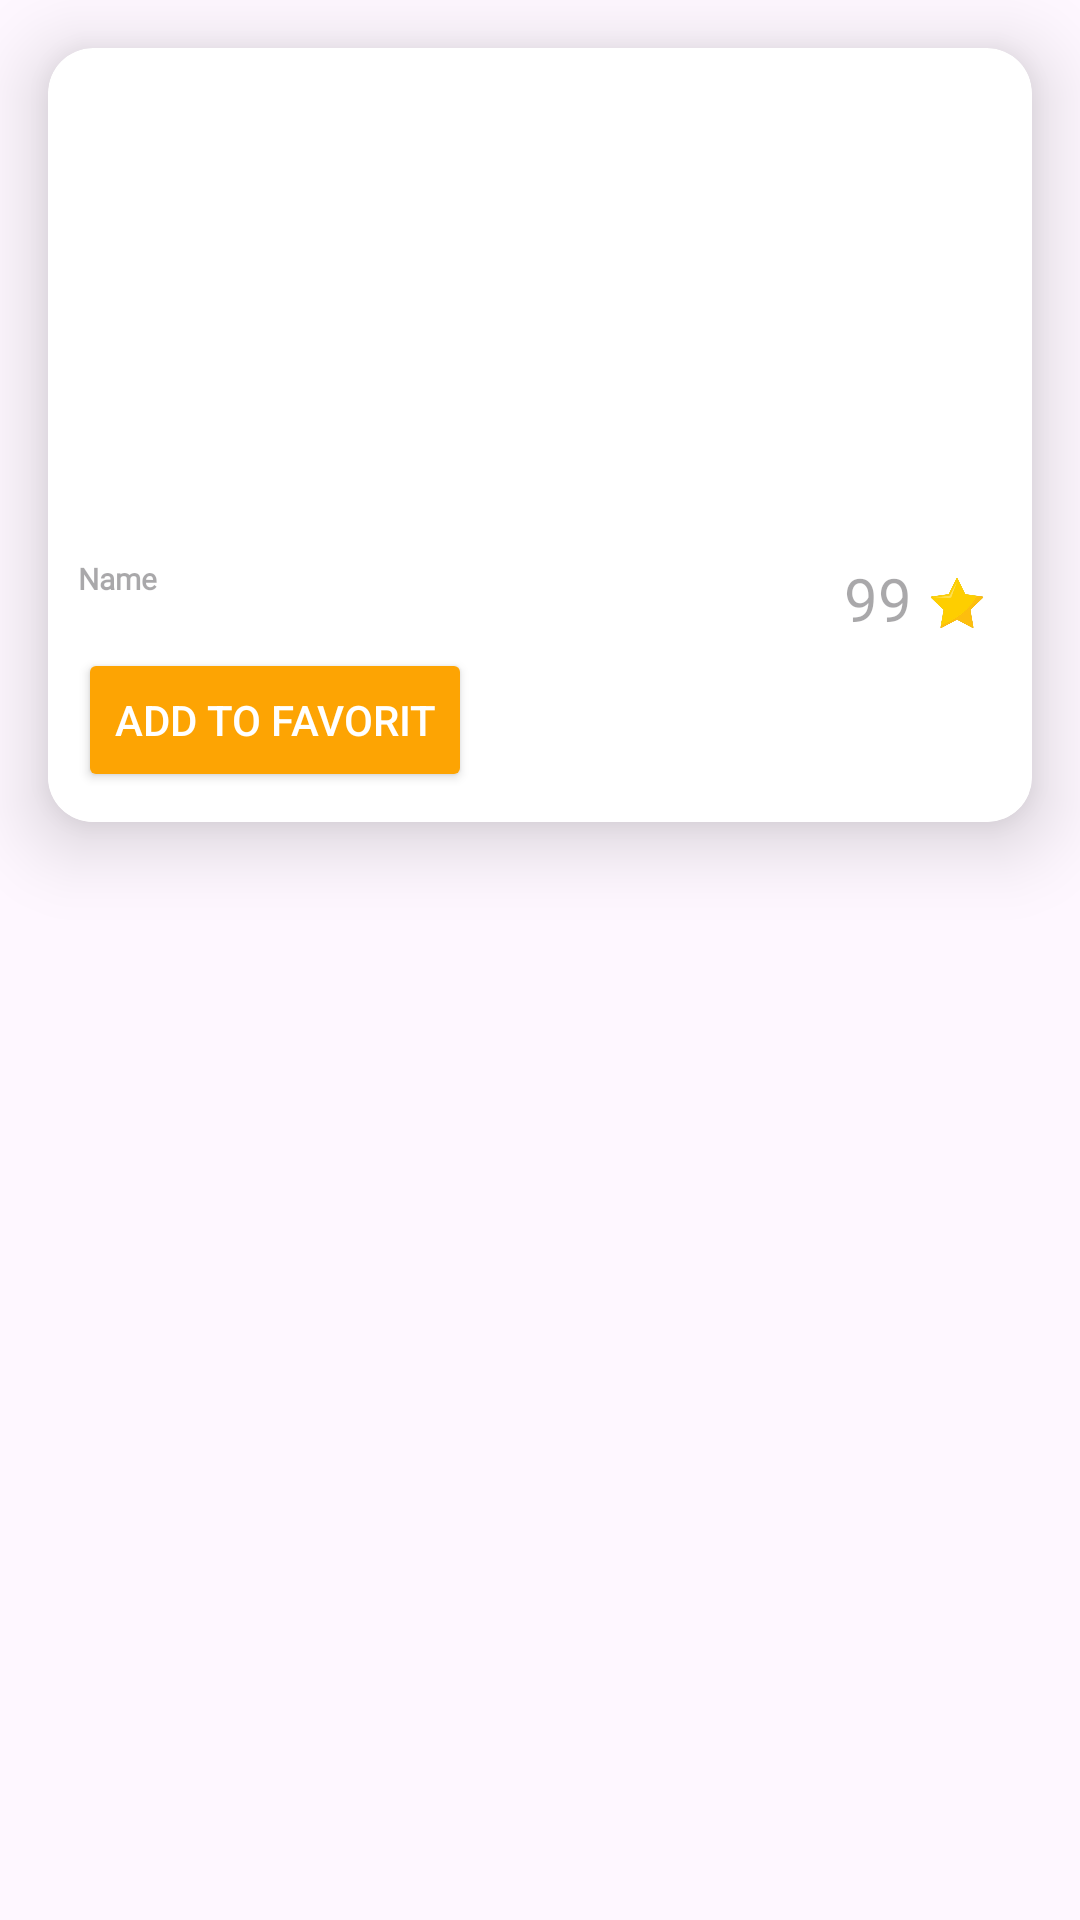

Point at icon controls on the screen. Image size 1080×1920, points as [x,y].
rating: [957,603]
